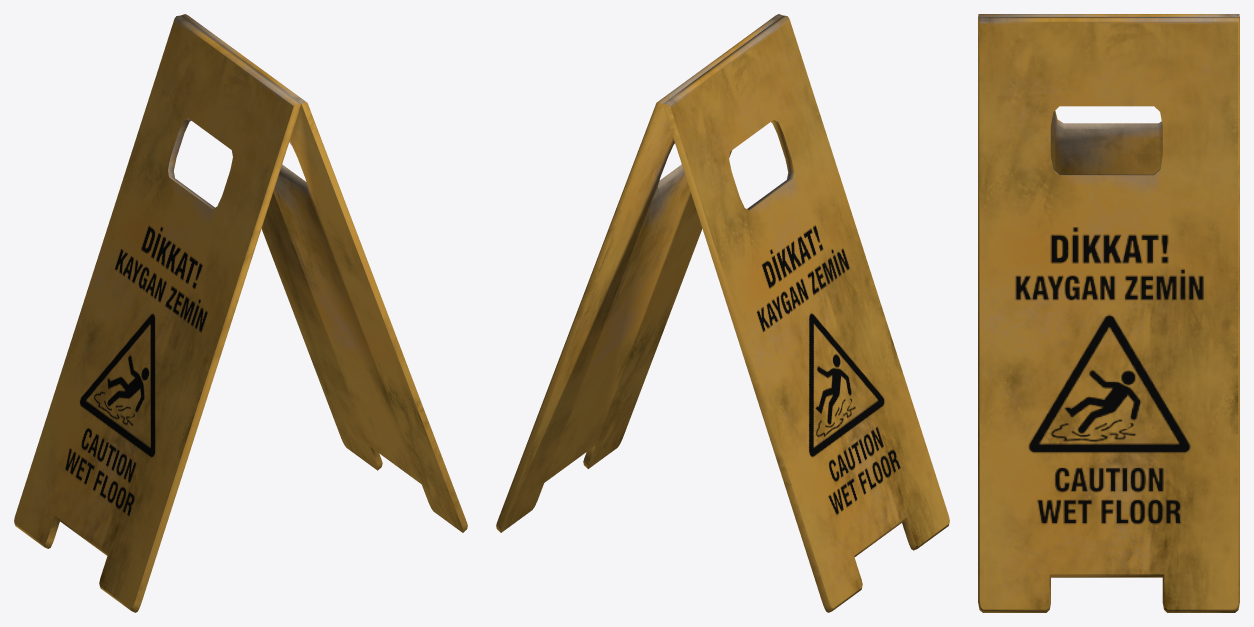
File: low_poly_wet_floor_sign__kaygan_zemin_tabelas.glb
3 views of the same model, side by side, from view 1: azimuth 30°, elevation 25°; view 2: azimuth 150°, elevation 25°; view 3: azimuth 270°, elevation 25° (orthographic). The views are drawn at different scales.
Parts seen in each view (by area): view 1: SM_Zemin_Tabelasi.001_0; view 2: SM_Zemin_Tabelasi.001_0; view 3: SM_Zemin_Tabelasi.001_0.
Boxes of the visible parts, x1,y1,x2,y2 form: SM_Zemin_Tabelasi.001_0: (14,14,467,612); SM_Zemin_Tabelasi.001_0: (496,14,949,612); SM_Zemin_Tabelasi.001_0: (978,14,1239,612).
Bounding box in the file's own units: 1.19 × 1.59 × 0.7392.
Materials: 1 (1 with a texture image).
